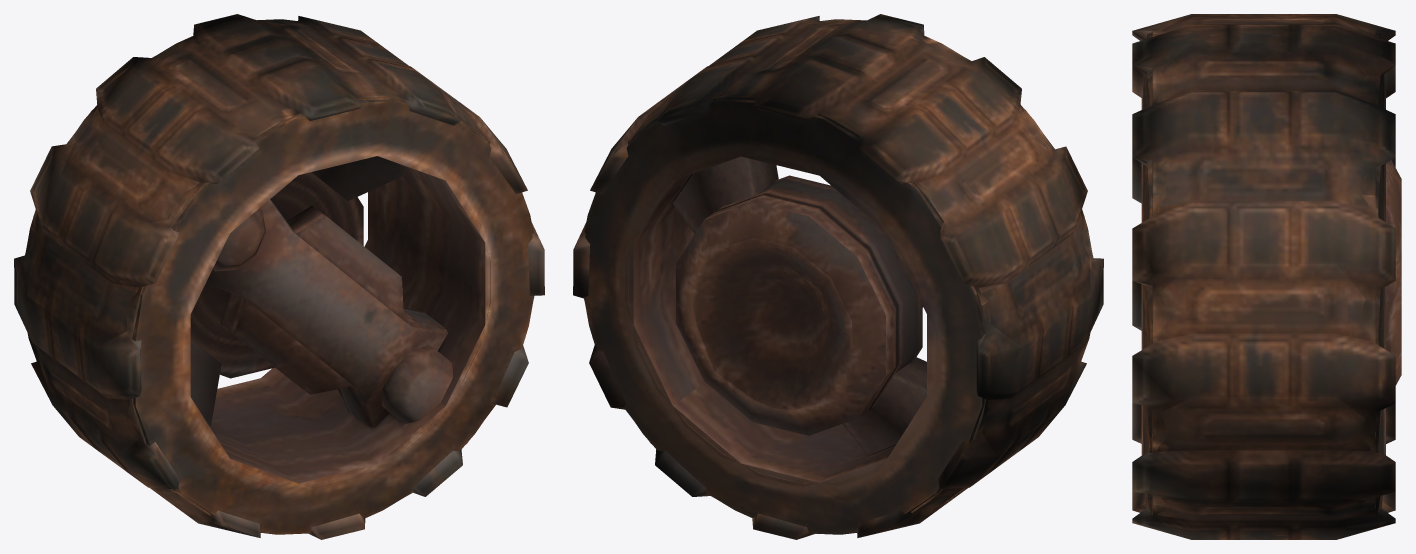
The model's file is Cheetah_WheelFrontLeft.DAE.
3 renders of one model, left to right at view 1: azimuth 30°, elevation 25°; view 2: azimuth 150°, elevation 25°; view 3: azimuth 270°, elevation 25°, orthographic. The views are drawn at different scales.
Parts seen in each view (by area): view 1: Tread_LOD100, Tread_LOD300, Tread_LOD200; view 2: Tread_LOD100, Tread_LOD300, Tread_LOD200; view 3: Tread_LOD300, Tread_LOD100, Tread_LOD200.
Boxes of the visible parts, bbox=[...] form: Tread_LOD100: bbox=[25, 22, 534, 532]; Tread_LOD300: bbox=[14, 14, 544, 539]; Tread_LOD200: bbox=[211, 14, 447, 539]; Tread_LOD100: bbox=[583, 22, 1093, 532]; Tread_LOD300: bbox=[573, 14, 1103, 539]; Tread_LOD200: bbox=[656, 14, 923, 538]; Tread_LOD300: bbox=[1132, 14, 1401, 539]; Tread_LOD100: bbox=[1141, 14, 1385, 520]; Tread_LOD200: bbox=[1132, 25, 1401, 538].
Size of what is drawn, in the model's own units: 1.22 by 0.6216 by 1.22.
Materials: 1 (1 with a texture image).
